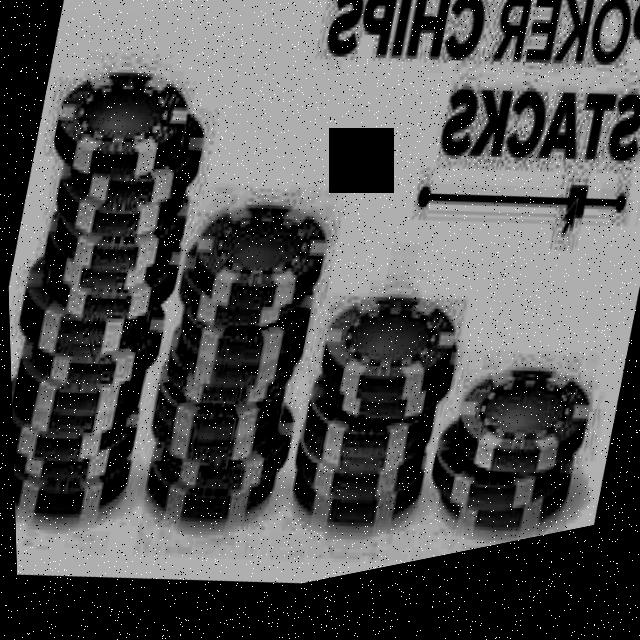Chip: (2, 35, 238, 558), (113, 169, 351, 576), (268, 278, 477, 575), (402, 349, 606, 578)
